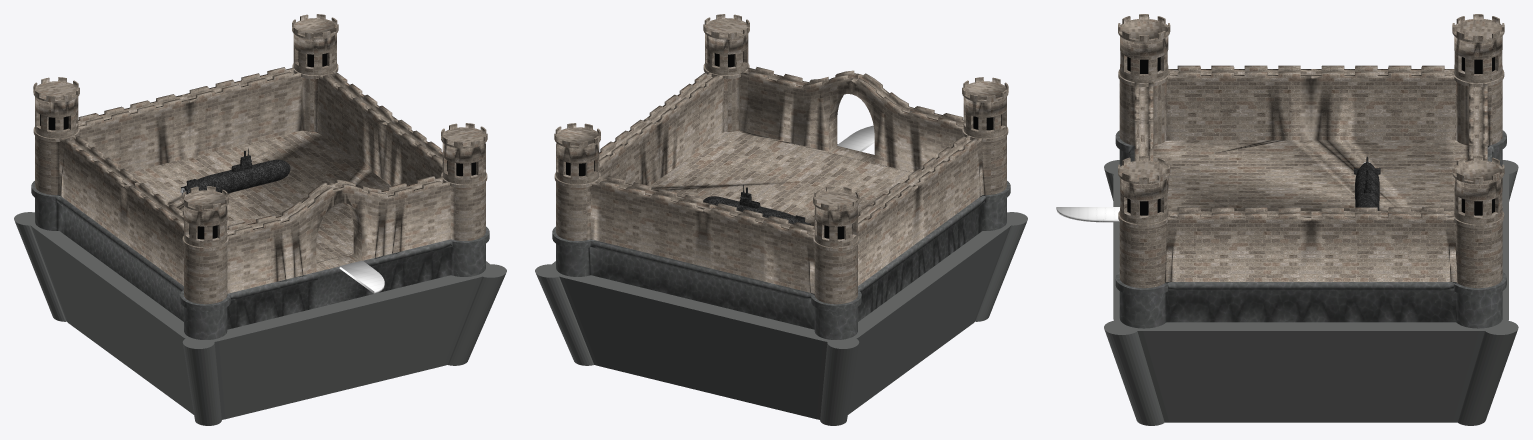
The model's file is main_castle_test.glb.
3 renders of one model, left to right at view 1: azimuth 30°, elevation 25°; view 2: azimuth 150°, elevation 25°; view 3: azimuth 270°, elevation 25°, orthographic. The views are drawn at different scales.
Visible parts, largest first — view 1: wall.002, clouds, sub, door.001; view 2: wall.002, clouds, sub, door.001; view 3: wall.002, clouds, sub, door.001.
Boxes of the visible parts, x1,y1,x2,y2 form: wall.002: [31, 14, 489, 339]; clouds: [14, 212, 506, 425]; sub: [180, 148, 290, 195]; door.001: [339, 260, 384, 293]; wall.002: [552, 14, 1010, 339]; clouds: [535, 212, 1027, 425]; sub: [703, 184, 810, 224]; door.001: [837, 125, 874, 151]; wall.002: [1115, 14, 1506, 328]; clouds: [1104, 160, 1518, 425]; sub: [1354, 156, 1380, 210]; door.001: [1056, 207, 1119, 222].
Size of the model in its own units: 17.11 by 11.67 by 19.07.
Materials: 6 (5 with a texture image).
